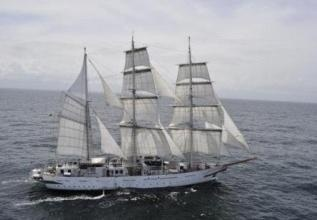fanchuan: (28, 28, 254, 194)
